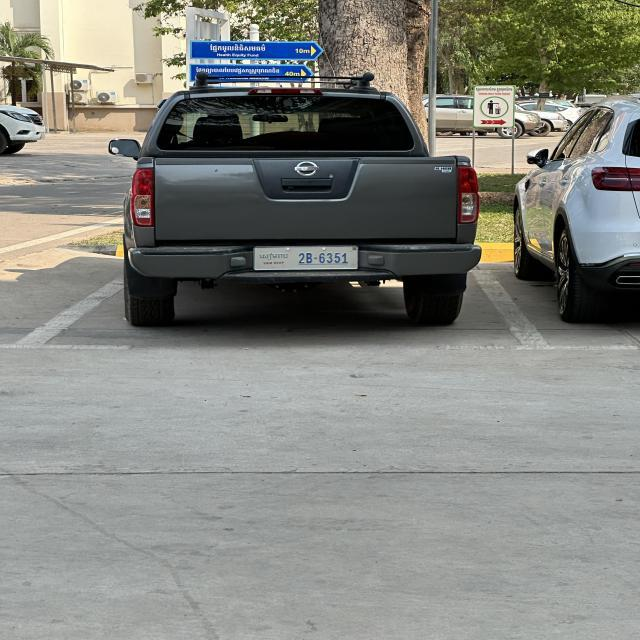Siem_Reap: (258, 252, 290, 261)
